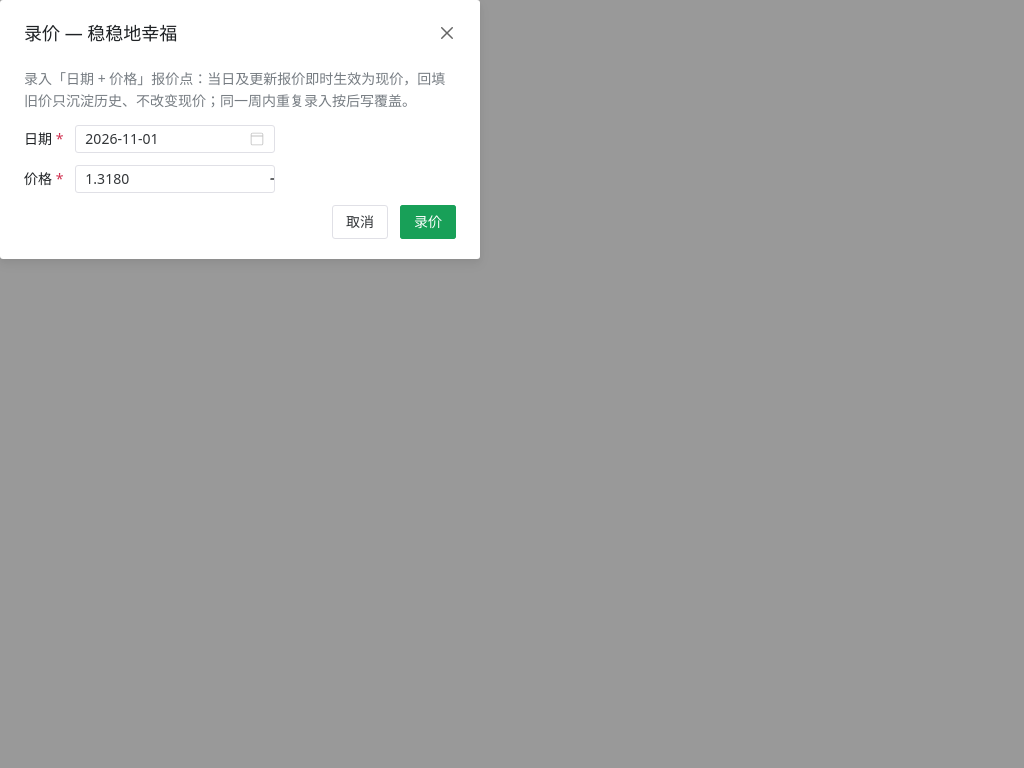
it: ManualPriceModal 手动报价弹窗（issue #291 / ADR-0036） › 后端拒绝（如价格校验）：弹窗内展示中文报错，弹窗不关、无 quoted 回执
Click the button with test id "submit-manual-quote". click: x=428, y=222
box: [400, 205, 456, 239]
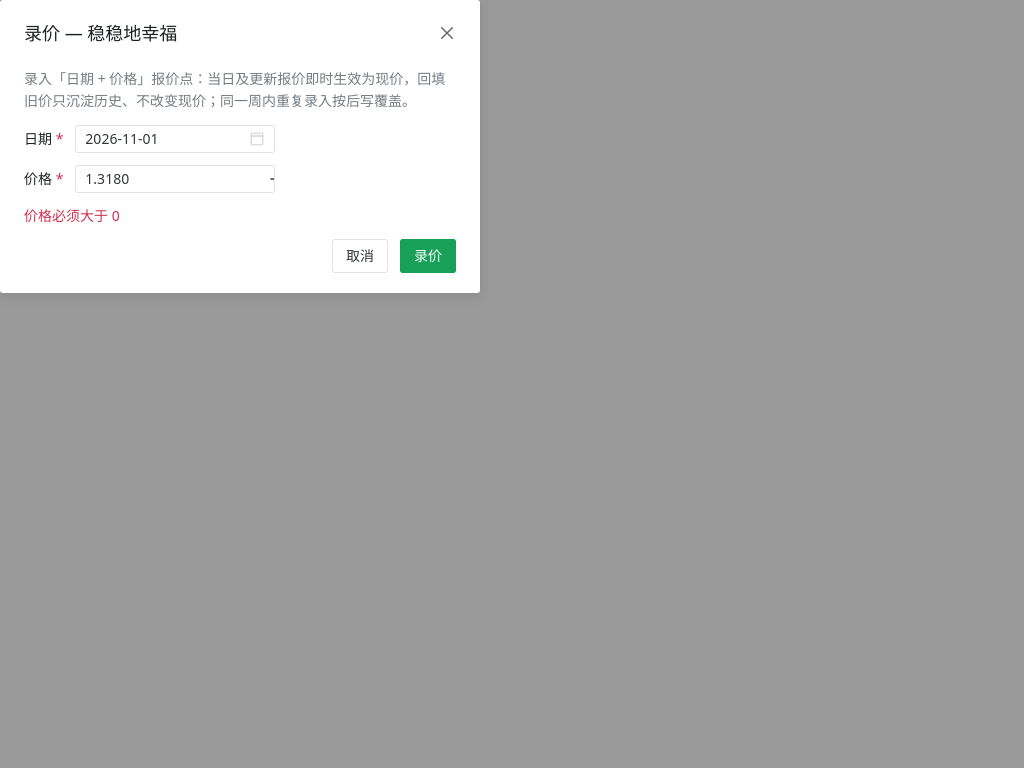
Expected: the text with test id "manual-quote-error" reads "价格必须大于 0", [24, 206, 120, 225]
